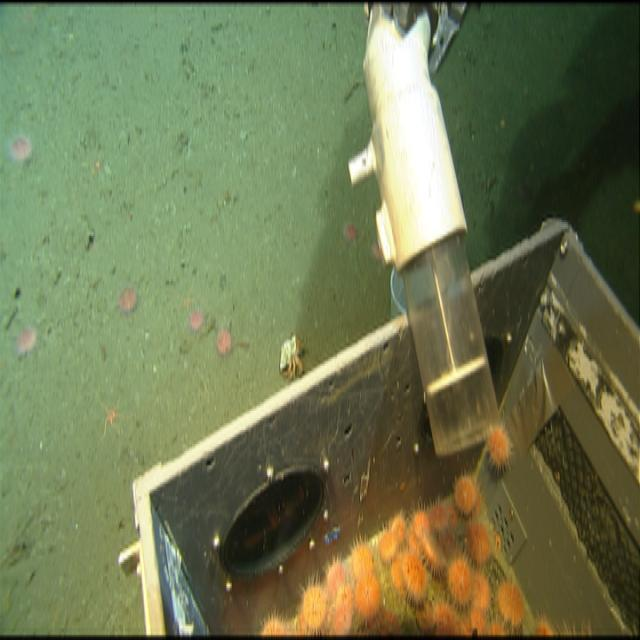Brittle Star: (94, 390, 128, 442)
Not Brittle Star: (443, 552, 478, 607), (495, 576, 529, 626), (400, 548, 431, 602), (352, 566, 384, 618), (297, 581, 330, 630), (276, 328, 305, 382), (211, 321, 241, 364), (485, 422, 512, 466), (453, 470, 479, 512), (13, 319, 39, 361), (6, 125, 35, 161), (116, 276, 140, 319), (185, 302, 206, 336), (339, 215, 362, 246), (411, 505, 429, 534)
